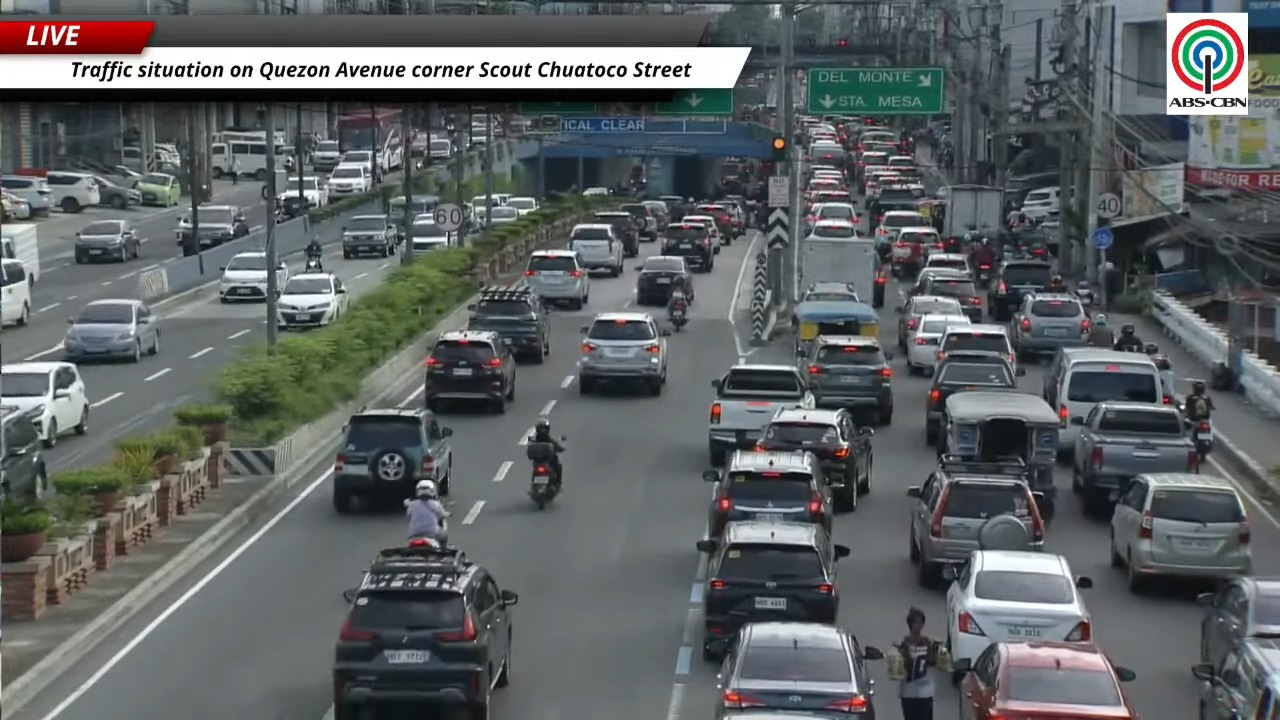bus: (336, 108, 404, 172), (210, 129, 265, 143), (273, 144, 295, 170)
car: (333, 542, 517, 719), (697, 521, 849, 660), (907, 457, 1044, 586), (1110, 473, 1251, 592), (944, 550, 1092, 662), (715, 622, 883, 719), (956, 641, 1136, 719), (332, 408, 452, 513), (756, 409, 873, 511), (702, 450, 833, 538), (797, 335, 893, 424), (925, 353, 1015, 444), (577, 313, 670, 395), (0, 362, 88, 447), (1197, 577, 1280, 667), (426, 330, 515, 412), (1191, 637, 1279, 719), (467, 286, 550, 363), (62, 299, 160, 362), (1010, 293, 1091, 355), (0, 405, 49, 502), (937, 323, 1024, 374), (278, 272, 348, 328), (988, 260, 1052, 321), (523, 250, 589, 309), (906, 313, 970, 373), (897, 295, 963, 351), (219, 251, 289, 302), (568, 223, 624, 277), (921, 274, 983, 322), (635, 255, 694, 305), (74, 219, 140, 263), (660, 222, 719, 271), (890, 227, 941, 276), (342, 214, 396, 258), (195, 205, 250, 248), (45, 171, 100, 212), (0, 175, 53, 216), (0, 258, 31, 327), (593, 212, 639, 256), (407, 214, 458, 253), (693, 203, 739, 243), (325, 164, 372, 201), (805, 201, 859, 233), (873, 210, 928, 241), (907, 267, 965, 296), (93, 174, 141, 209), (134, 173, 180, 207), (277, 176, 327, 207), (620, 203, 660, 241), (679, 213, 728, 244), (799, 281, 861, 302), (337, 150, 381, 178), (716, 198, 745, 238), (925, 252, 972, 275), (806, 220, 857, 239), (473, 205, 518, 226), (0, 191, 31, 221), (311, 140, 341, 171), (809, 187, 854, 206), (642, 199, 672, 226), (657, 195, 688, 221), (507, 196, 538, 215), (582, 187, 611, 196)
motorcycle: (526, 436, 561, 509), (1179, 399, 1214, 463), (408, 517, 448, 546), (1191, 419, 1213, 463), (1075, 280, 1094, 307), (976, 263, 992, 288), (668, 310, 687, 331), (304, 257, 323, 272)
truck: (1071, 401, 1198, 511), (709, 364, 814, 466), (798, 235, 886, 307), (942, 184, 1003, 237), (0, 223, 39, 284)
